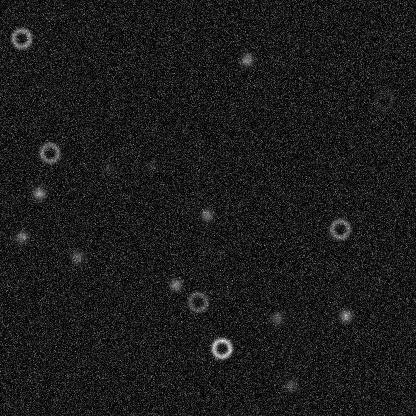Ring: (209, 336, 233, 360), (37, 140, 61, 164), (372, 88, 396, 112), (9, 26, 33, 50), (185, 289, 209, 313), (328, 216, 352, 240)
Spot: (198, 206, 214, 222), (337, 307, 353, 323), (69, 248, 85, 264), (167, 276, 183, 292), (31, 185, 47, 201), (238, 52, 254, 68), (13, 228, 29, 244), (268, 310, 284, 326), (100, 161, 116, 177), (141, 159, 157, 175), (282, 377, 298, 393)
